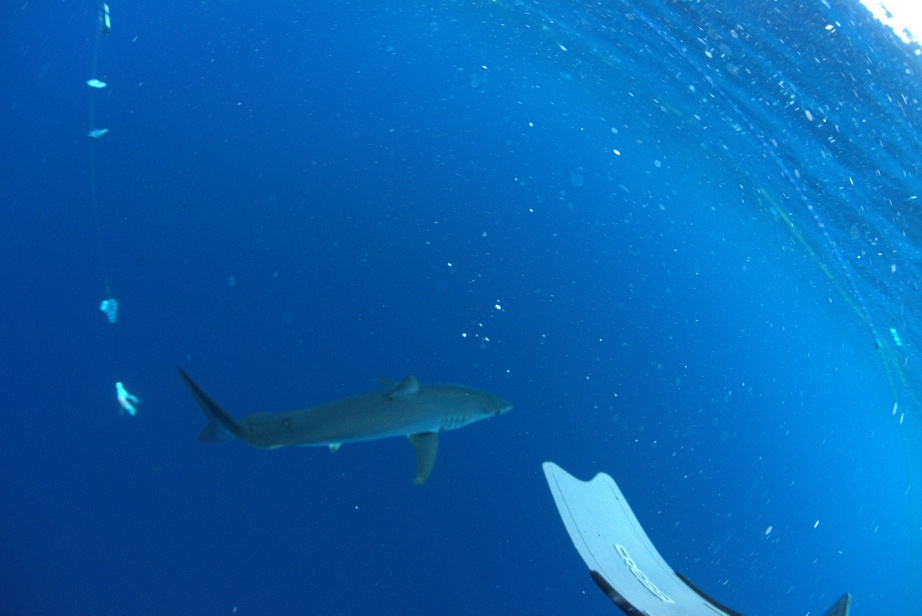Mako: (164, 361, 521, 489)
